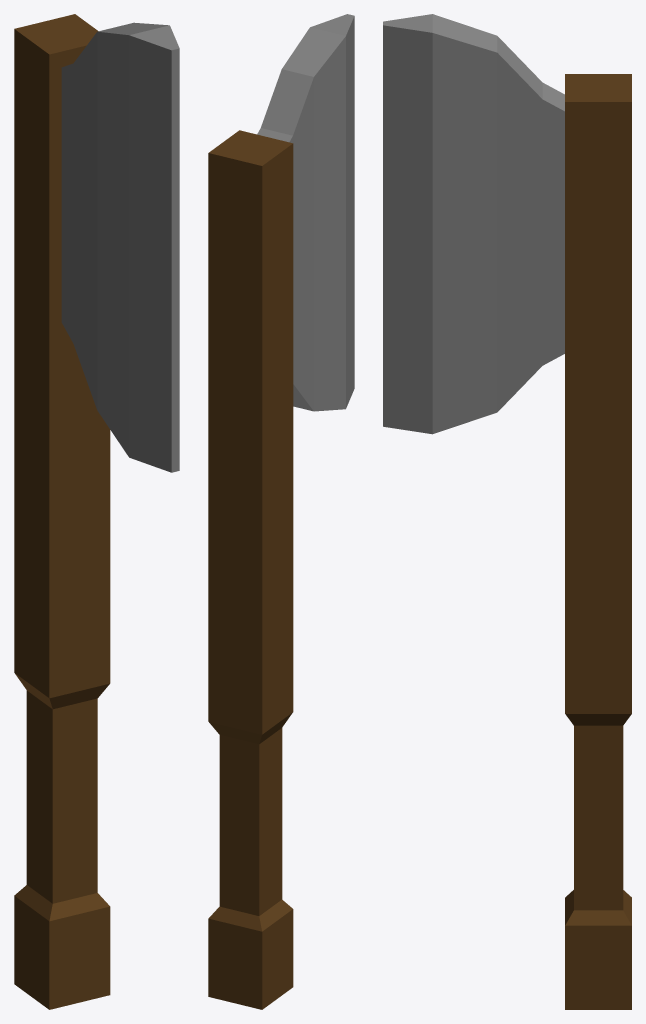
File: Axe01.fbx
3 views of the same model, side by side, from view 1: azimuth 30°, elevation 25°; view 2: azimuth 150°, elevation 25°; view 3: azimuth 270°, elevation 25° (orthographic). The views are drawn at different scales.
Visible parts, largest first — view 1: Cube; view 2: Cube; view 3: Cube.
Boxes of the visible parts, <box> form: Cube: <box>14,14,179,1009</box>; Cube: <box>208,14,354,1009</box>; Cube: <box>383,14,631,1009</box>.
Size of the model in its own units: 7 by 112 by 26.09.
